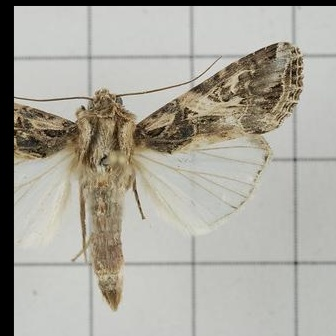Spodoptera litura: (14, 40, 303, 311)
